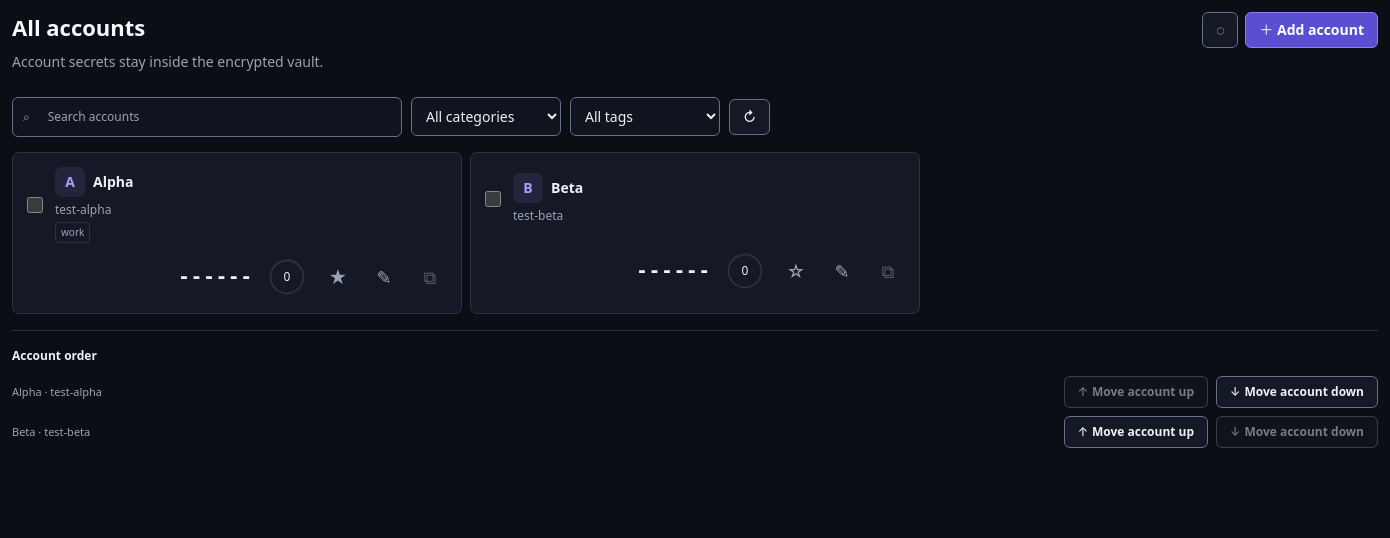
Scenario: visible account bulk selection › removes the bulk bar if all selections are hidden and doesn't restore them
Later steps or results of the test are not shown.
Step 1. Click the checkbox named "Selected: Alpha · test-alpha" → coordinates (35, 205), box x1=27 y1=197 x2=43 y2=213
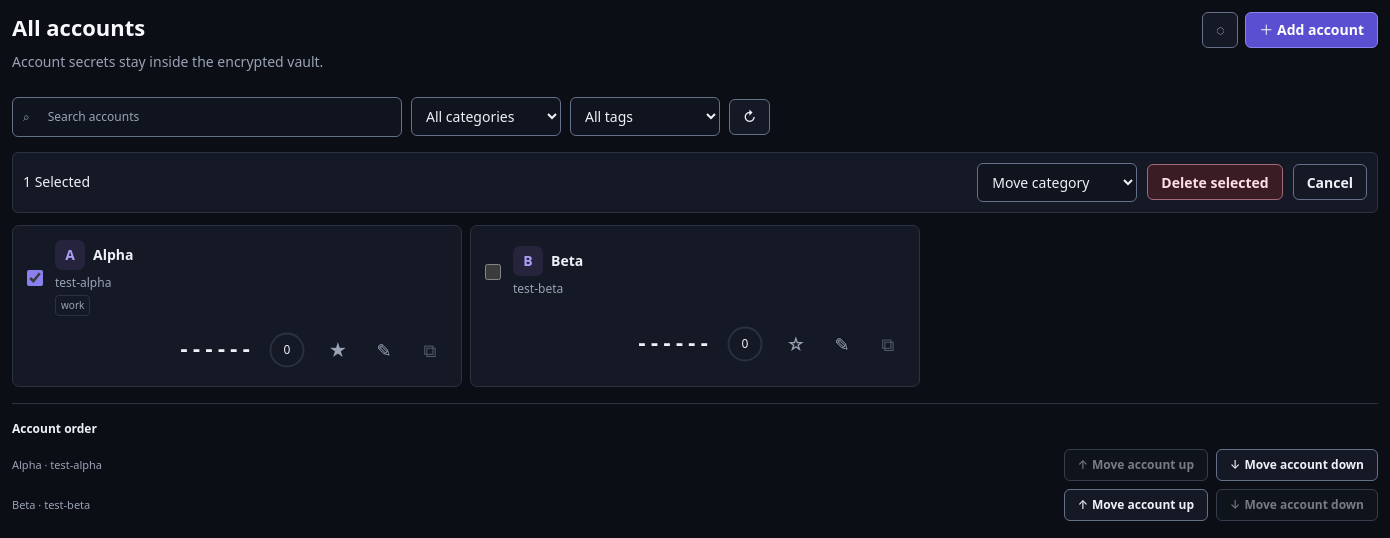
Step 2. Click the checkbox named "Selected: Beta · test-beta" → coordinates (493, 272), box x1=485 y1=264 x2=501 y2=280
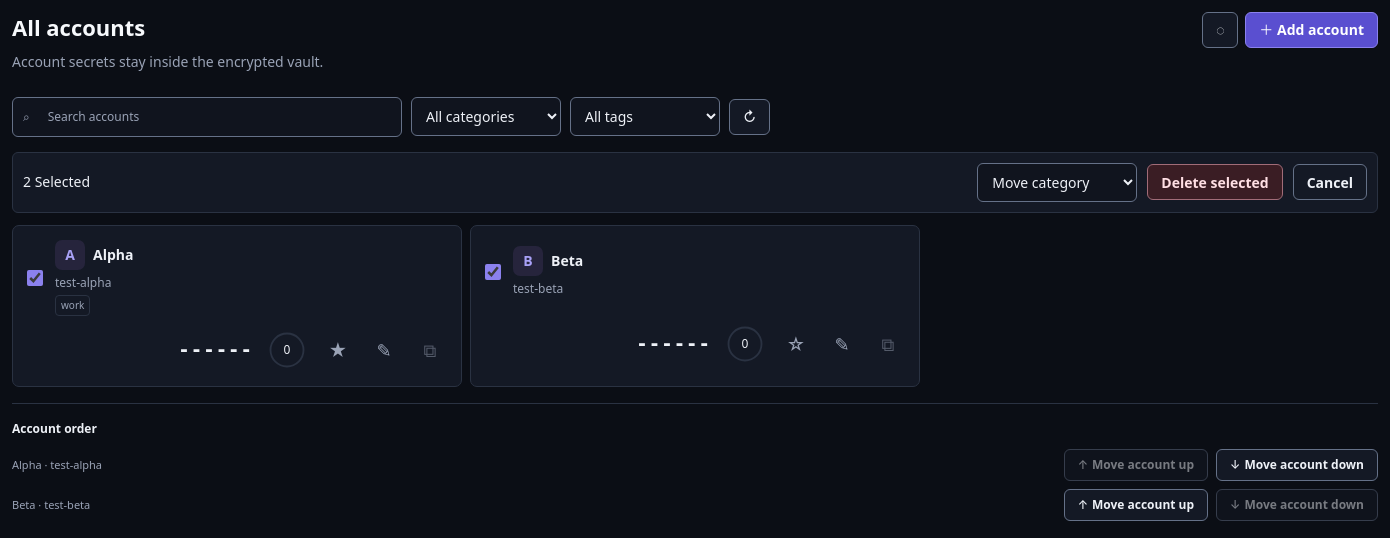
Step 3. Type "no matching accounts" into the field named "Search accounts" → coordinates (219, 117), box x1=38 y1=98 x2=401 y2=136
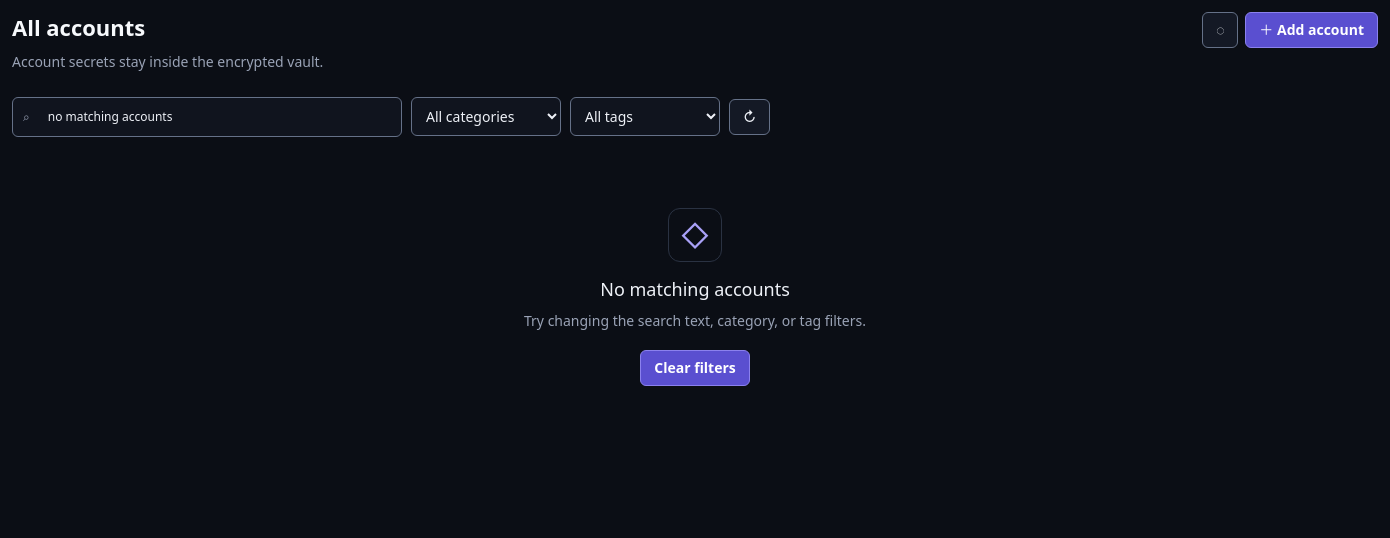
Check: the dropdown labelled "Move category" is not shown
Check: the button "Delete selected" is gone
